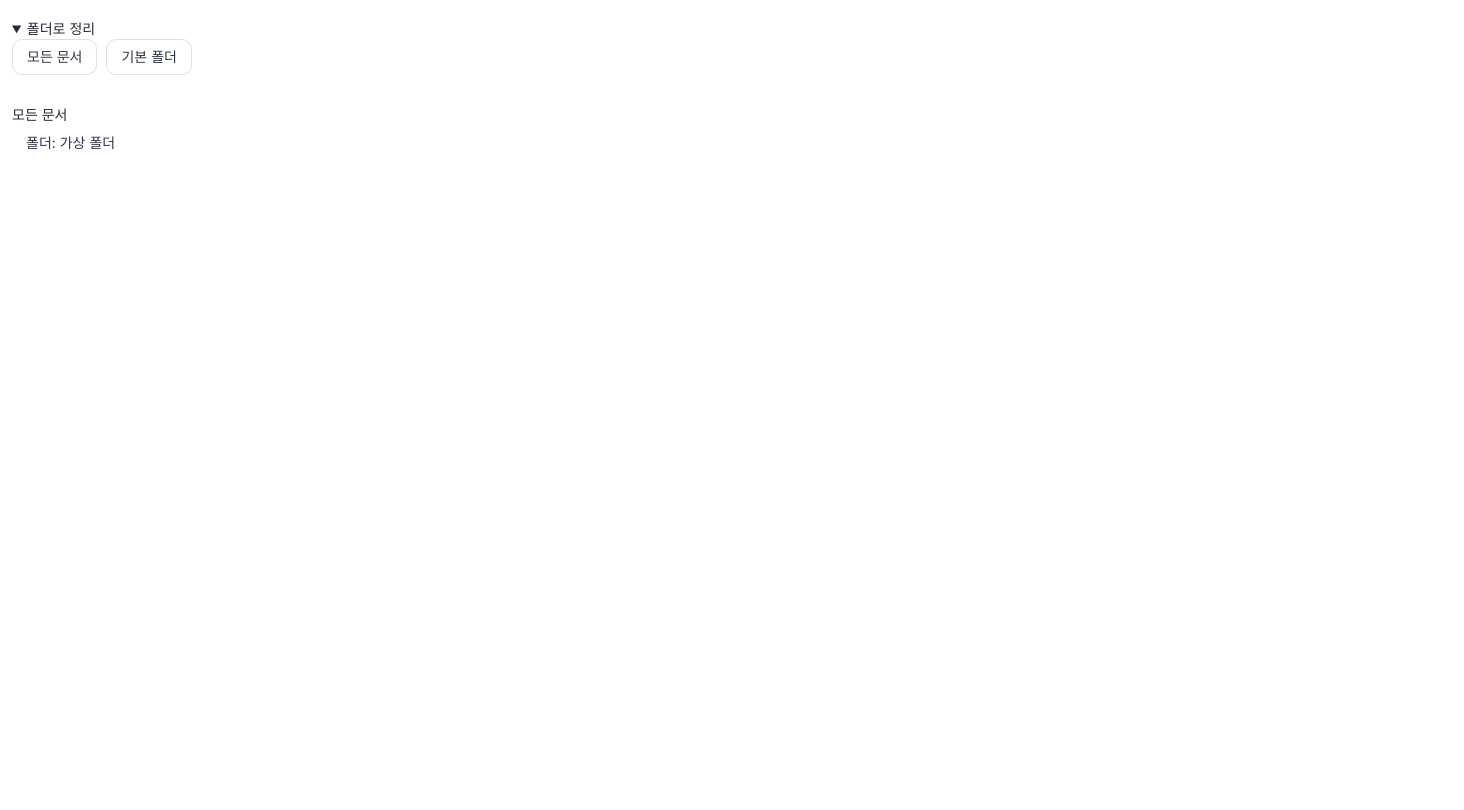
Scenario: 폴더 삭제는 확인을 요구하며 취소는 요청을 보내지 않는다
The image size is (1464, 810).
Click the button "폴더: 가상 폴더".
click(71, 143)  # box [12,125,129,161]
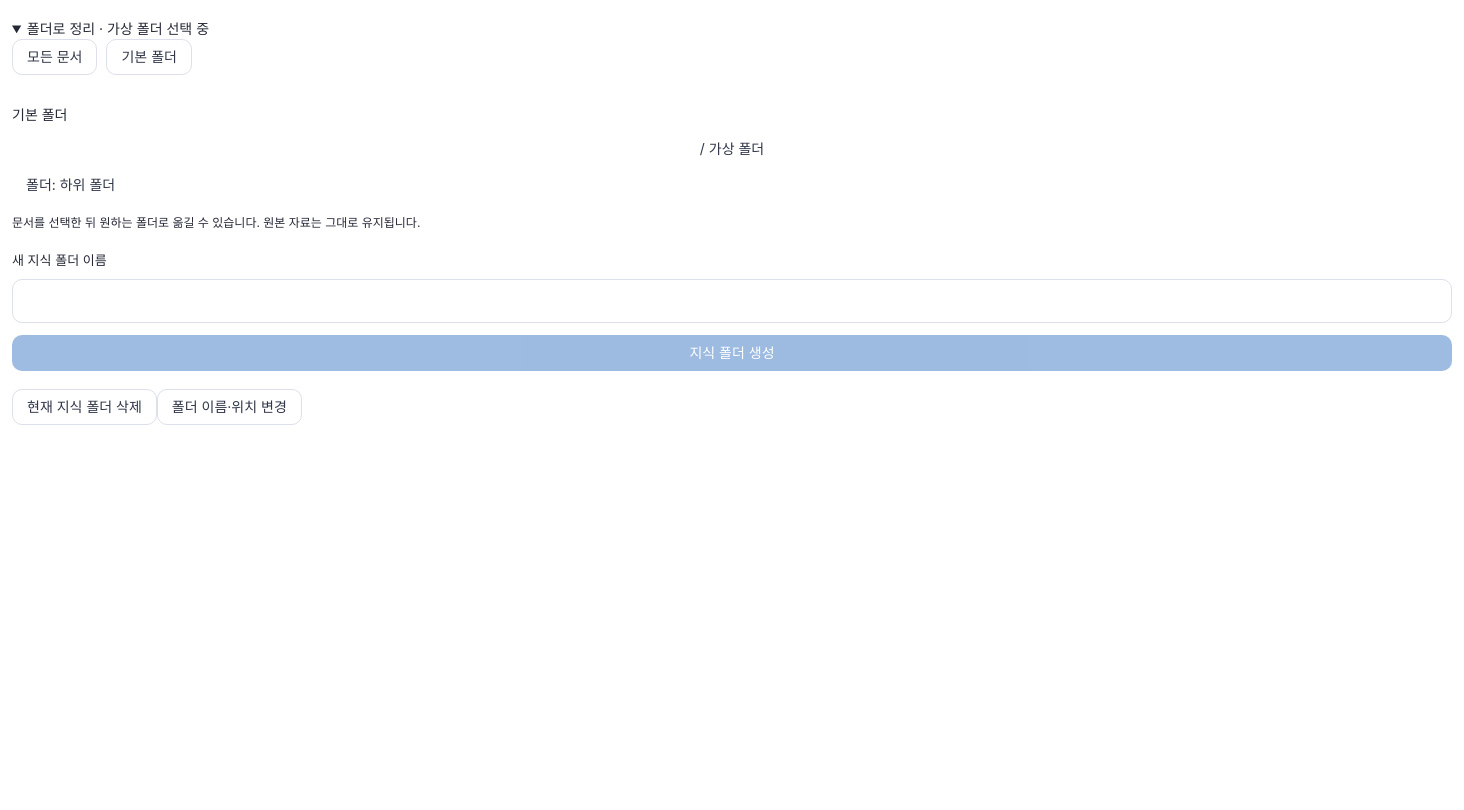
Click the button "현재 지식 폴더 삭제".
click(84, 407)  # box [12,389,157,425]
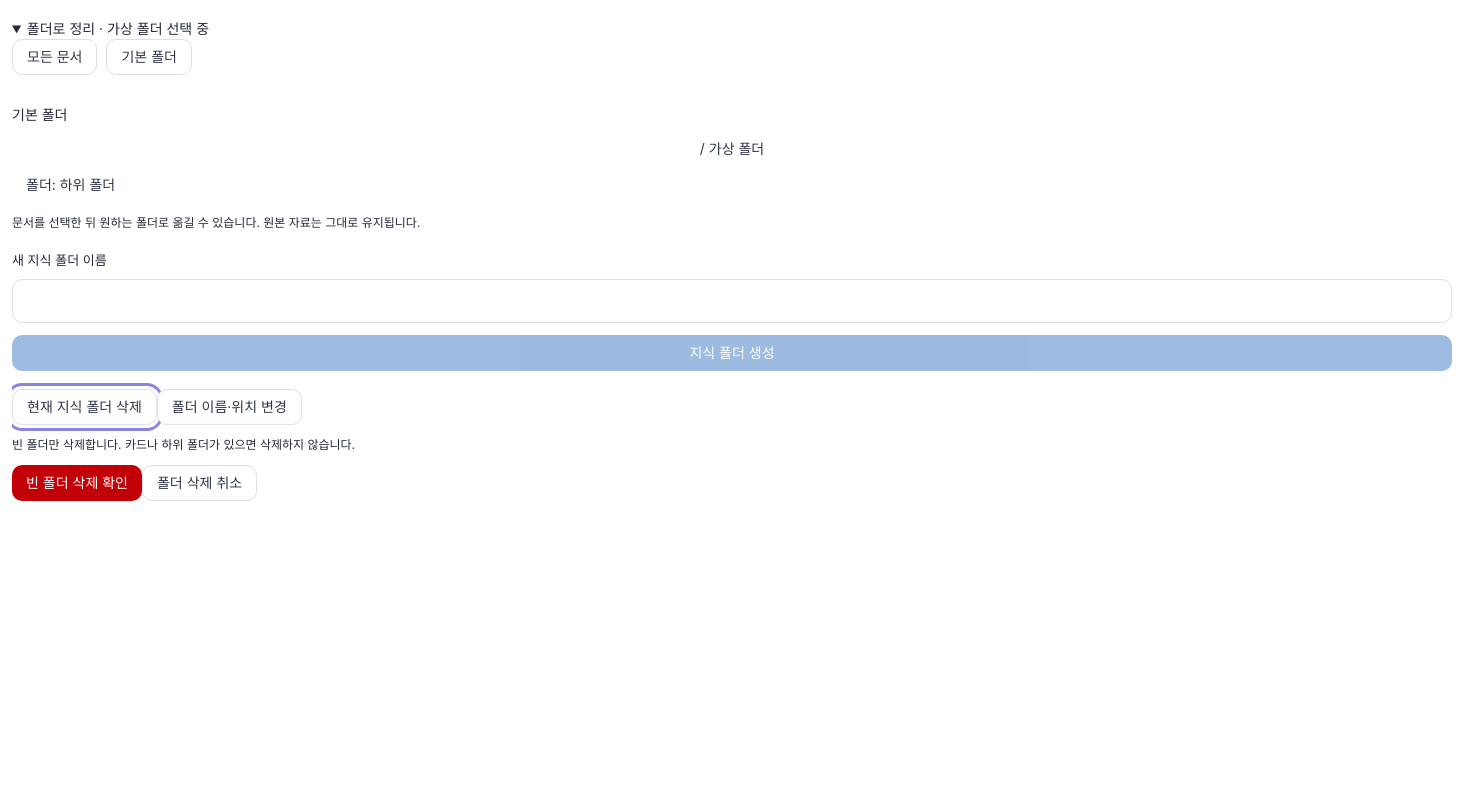
Click the button "폴더 삭제 취소".
click(200, 483)  # box [142,465,257,501]
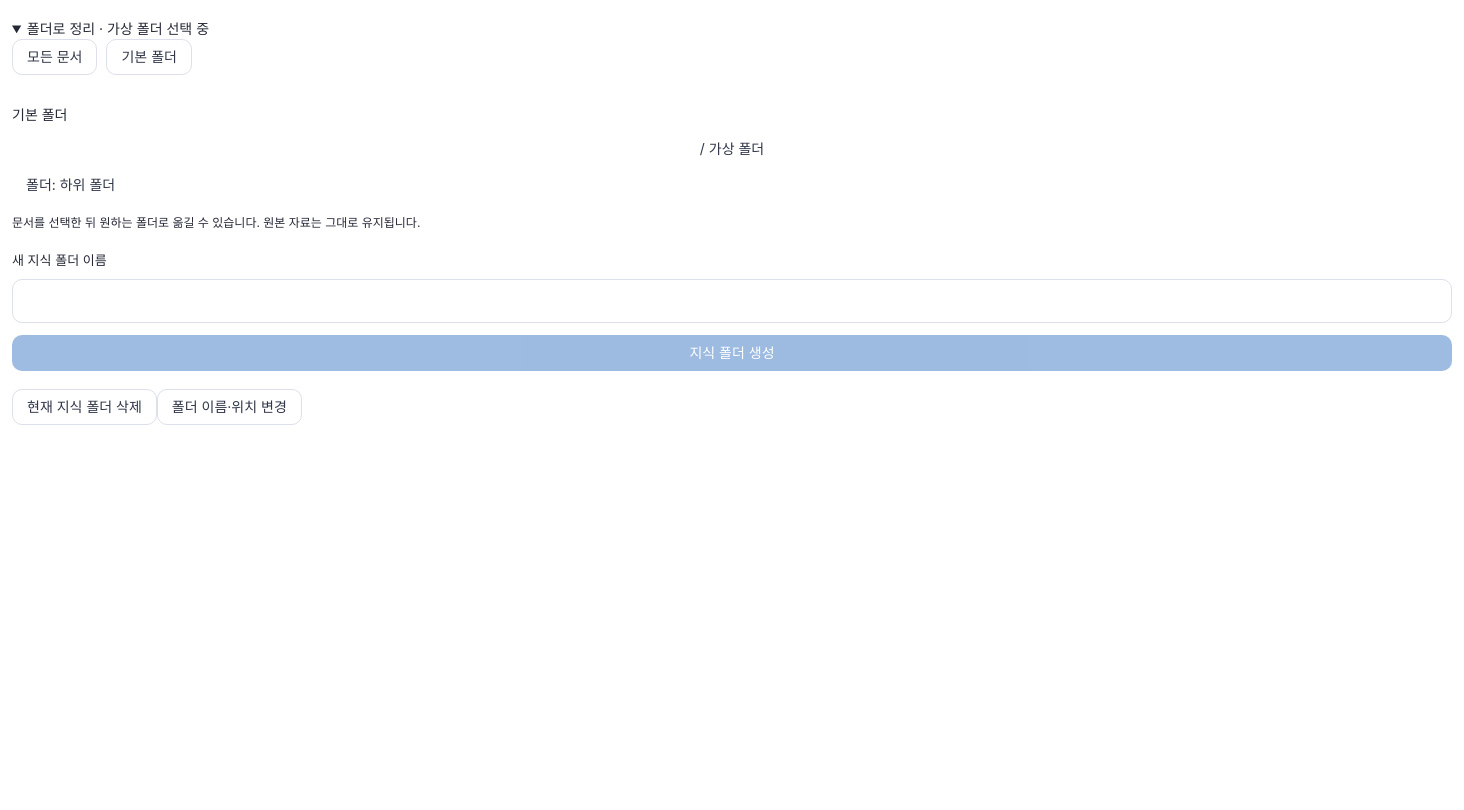
Click the button "현재 지식 폴더 삭제".
click(84, 407)  # box [12,389,157,425]
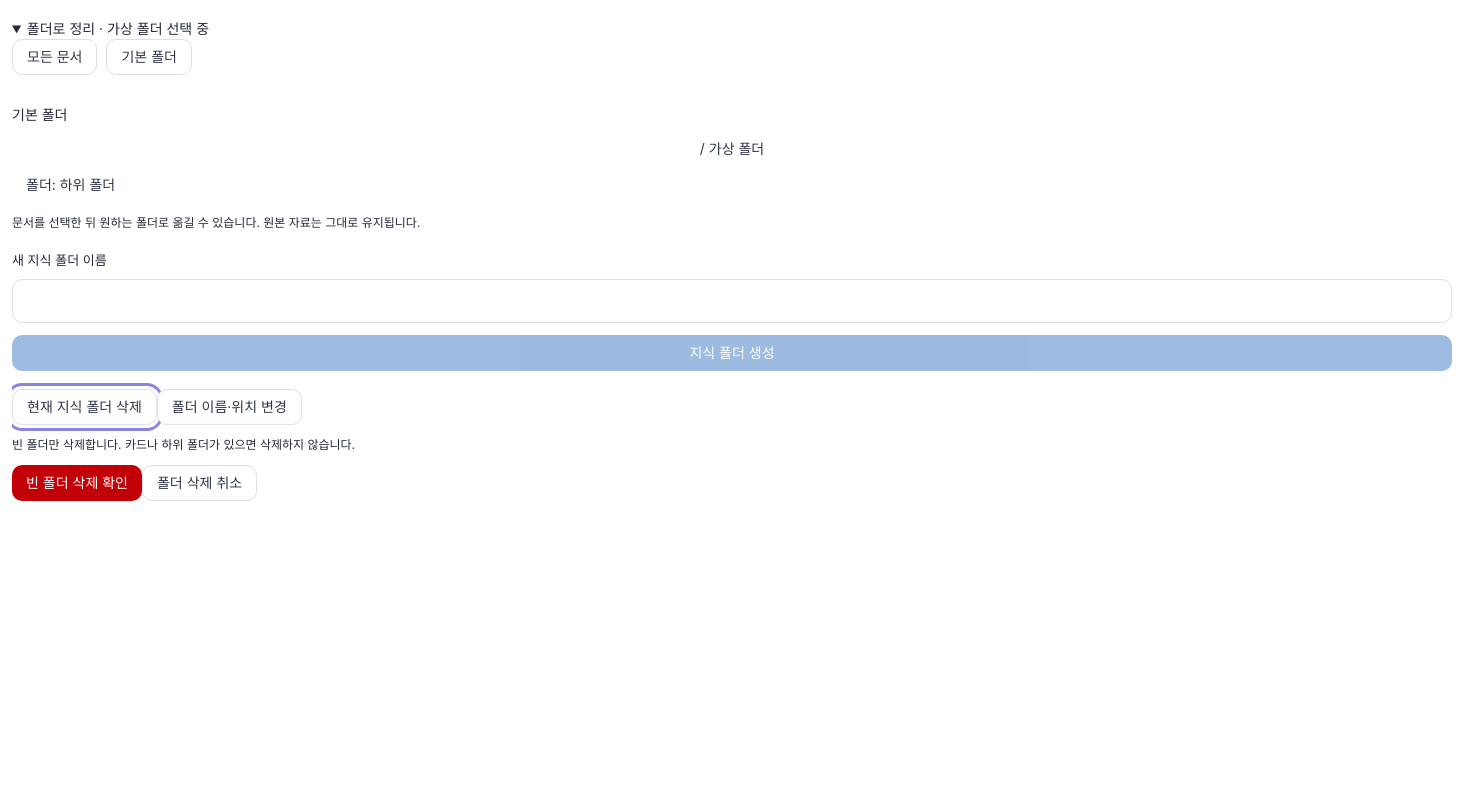
Click the button "빈 폴더 삭제 확인".
click(77, 483)  # box [12,465,142,501]
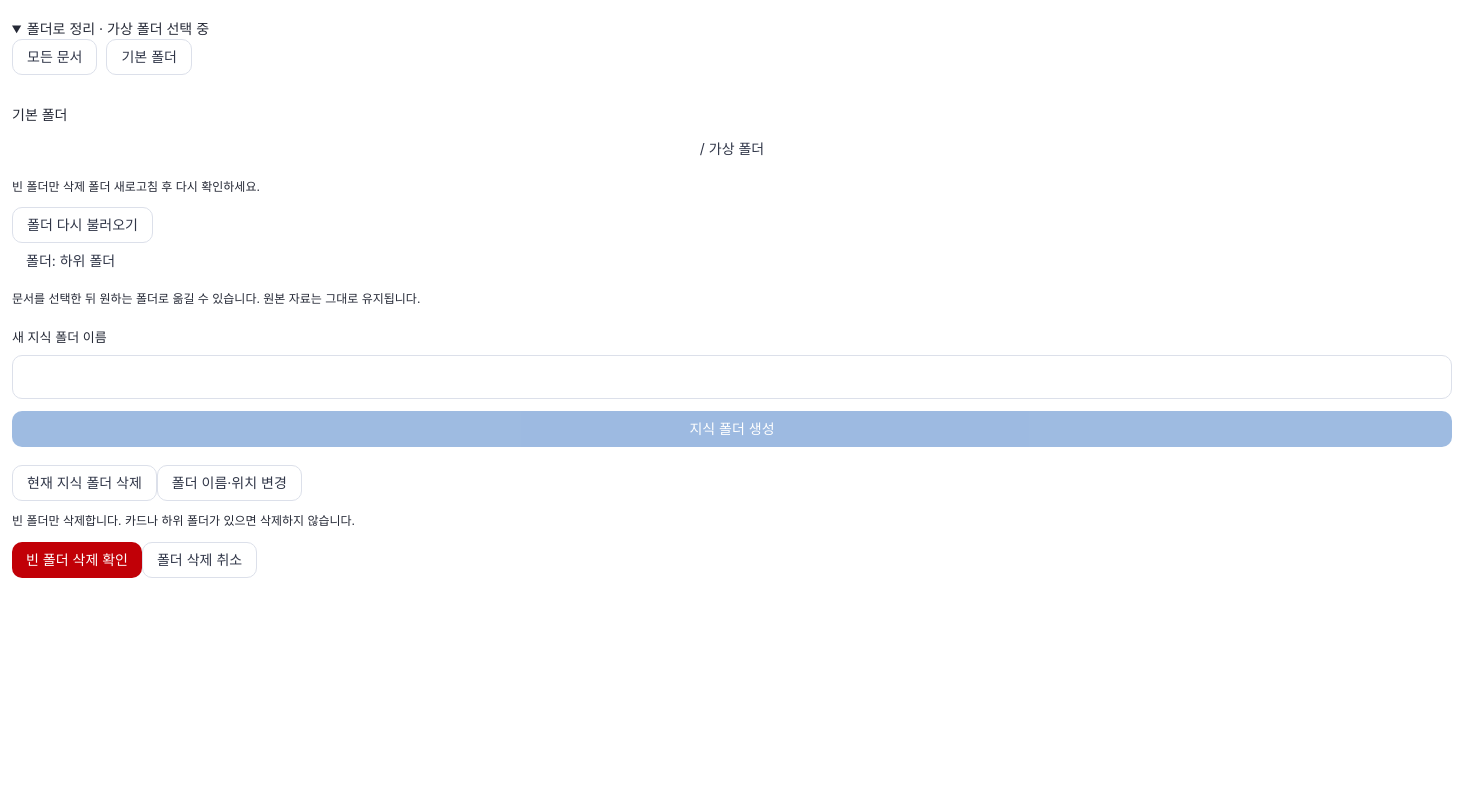
Result: the message shows "빈 폴더만 삭제" at [12,179,260,194]
